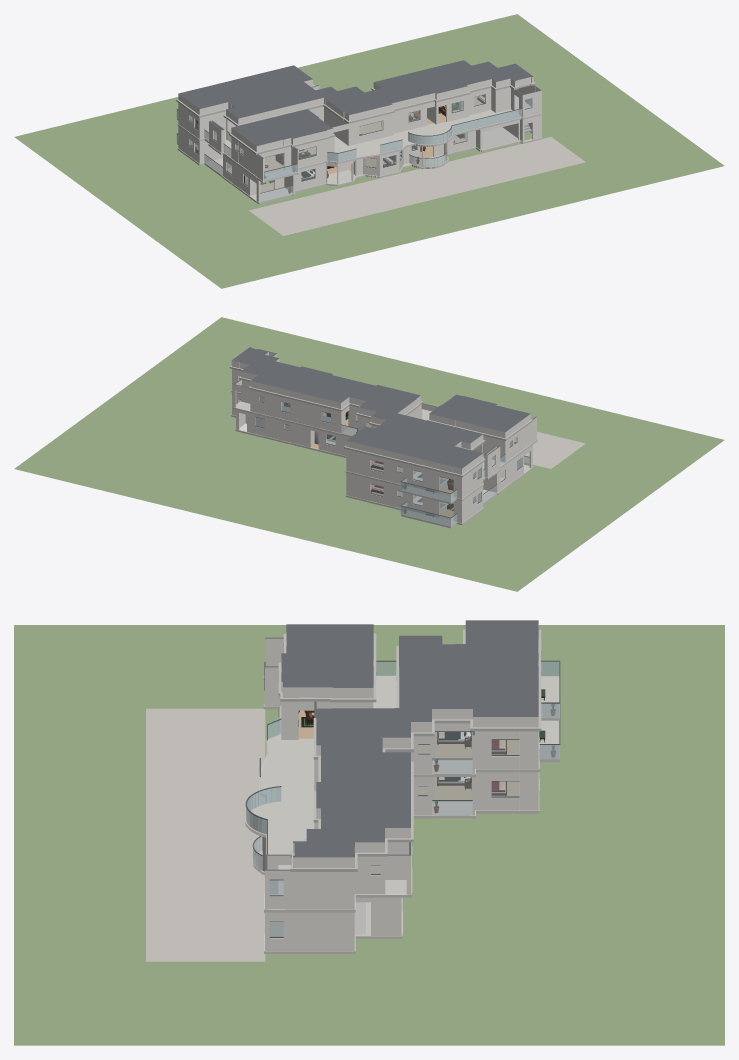
The model's file is clint.glb.
3 renders of one model, top to bottom at view 1: azimuth 30°, elevation 25°; view 2: azimuth 150°, elevation 25°; view 3: azimuth 270°, elevation 25°, orthographic. The views are drawn at different scales.
Parts seen in each view (by area): view 1: Site_Ground, Roof_Slab, L1_Walls, L0_Walls, L1, L0, L1_RailGlass, L1_Glass, L0_Slab, L1_Slab, L0_Glass, L0_RailGlass; view 2: Site_Ground, Roof_Slab, L1_Walls, L0_Walls, L1_Glass, L1_Slab, L0_Glass, L1, L0_Slab, L1_RailGlass, L0_RailGlass, L0; view 3: Site_Ground, Roof_Slab, L1_Walls, L1, L0_Walls, L0, L1_RailGlass, L1_Glass, L1_Slab, L0_Glass, L0_Slab, L0_RailGlass.
Part boxes in pixels (<box>): Site_Ground: <box>14,14,724,288</box>; Roof_Slab: <box>176,60,535,154</box>; L1_Walls: <box>178,85,541,180</box>; L0_Walls: <box>178,115,541,202</box>; L1: <box>190,95,531,180</box>; L0: <box>190,127,520,201</box>; L1_RailGlass: <box>176,109,521,180</box>; L1_Glass: <box>189,94,531,171</box>; L0_Slab: <box>177,131,542,204</box>; L1_Slab: <box>177,107,542,182</box>; L0_Glass: <box>189,133,466,192</box>; L0_RailGlass: <box>176,134,446,201</box>; Site_Ground: <box>14,317,724,591</box>; Roof_Slab: <box>229,347,532,477</box>; L1_Walls: <box>232,349,536,498</box>; L0_Walls: <box>232,392,532,523</box>; L1_Glass: <box>238,375,517,493</box>; L1_Slab: <box>231,390,537,503</box>; L0_Glass: <box>238,399,521,517</box>; L1: <box>236,401,516,501</box>; L0_Slab: <box>231,415,533,528</box>; L1_RailGlass: <box>341,425,505,502</box>; L0_RailGlass: <box>400,456,529,526</box>; L0: <box>239,423,529,525</box>; Site_Ground: <box>14,625,724,1045</box>; Roof_Slab: <box>278,620,541,871</box>; L1_Walls: <box>265,635,538,909</box>; L1: <box>246,675,558,894</box>; L0_Walls: <box>262,709,538,950</box>; L0: <box>254,720,558,936</box>; L1_RailGlass: <box>246,661,559,834</box>; L1_Glass: <box>269,732,519,895</box>; L1_Slab: <box>245,676,559,912</box>; L0_Glass: <box>269,777,519,936</box>; L0_Slab: <box>253,717,559,953</box>; L0_RailGlass: <box>253,745,559,870</box>.
Bounding box in the file's own units: 64.14 × 6.87 × 45.8.
